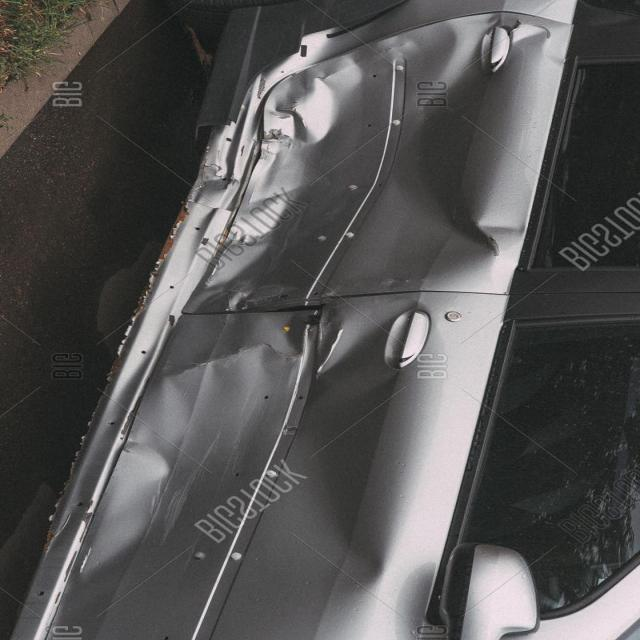dent: (86, 2, 586, 528)
